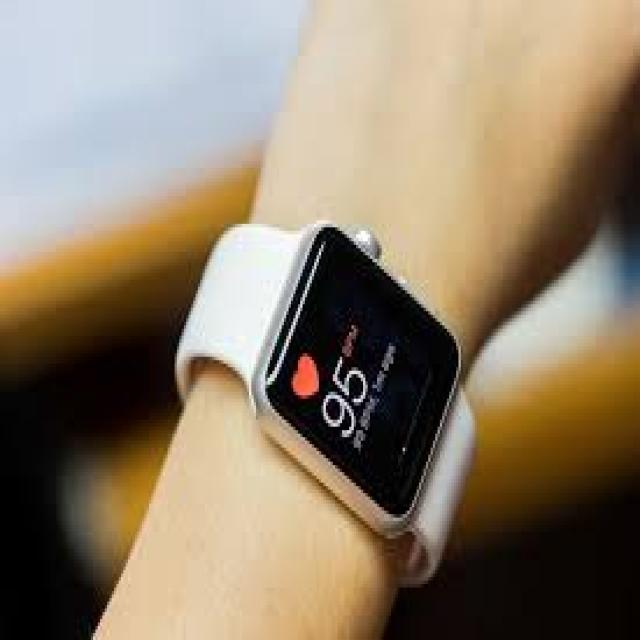objects: (248, 210, 462, 541)
